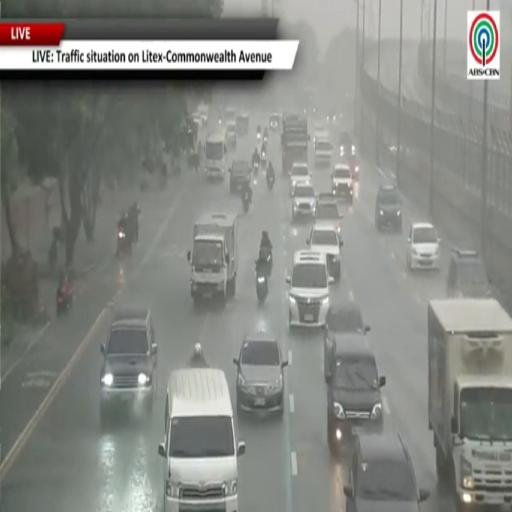car: (158, 368, 245, 511), (327, 333, 385, 453), (344, 434, 429, 511), (101, 309, 157, 422), (234, 332, 287, 414), (324, 301, 370, 380), (286, 250, 333, 327), (447, 249, 492, 297), (307, 224, 342, 281), (406, 222, 440, 269), (375, 184, 403, 232), (315, 194, 342, 235), (292, 183, 315, 221), (331, 164, 353, 203), (230, 159, 251, 194), (289, 163, 311, 195), (340, 154, 360, 181), (315, 137, 332, 166), (339, 132, 355, 156), (314, 125, 329, 149), (236, 114, 249, 136), (226, 122, 236, 150), (270, 112, 282, 131), (224, 107, 237, 123), (327, 110, 340, 123)
motorcycle: (255, 251, 272, 303), (57, 283, 73, 316), (116, 228, 131, 257), (256, 272, 267, 303), (242, 192, 251, 213), (267, 173, 275, 189), (243, 198, 250, 213), (261, 150, 266, 168), (253, 162, 259, 174), (257, 133, 261, 140), (264, 134, 267, 143)
truck: (428, 298, 511, 510), (187, 213, 238, 303), (282, 115, 309, 174), (204, 128, 228, 179)
